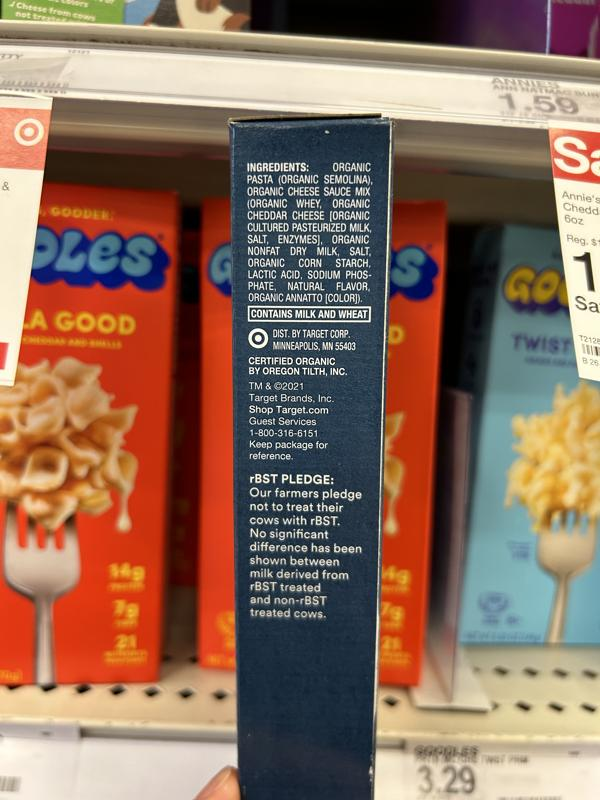ingredients: (244, 160, 374, 305)
